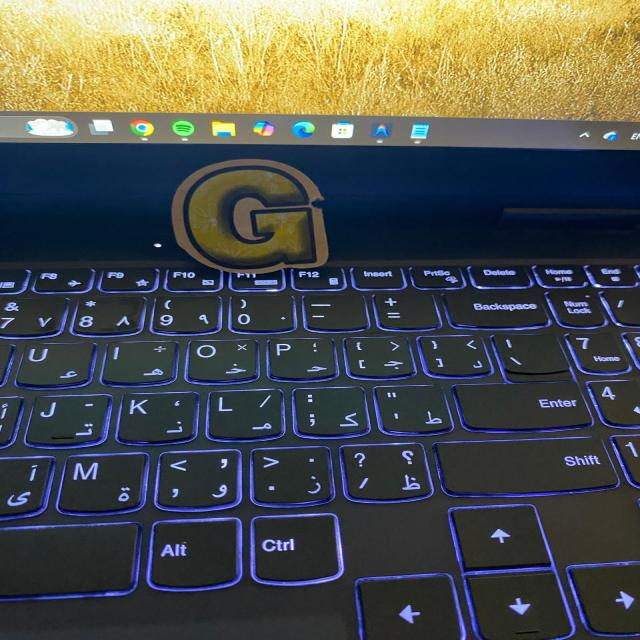G: (172, 160, 327, 273)
